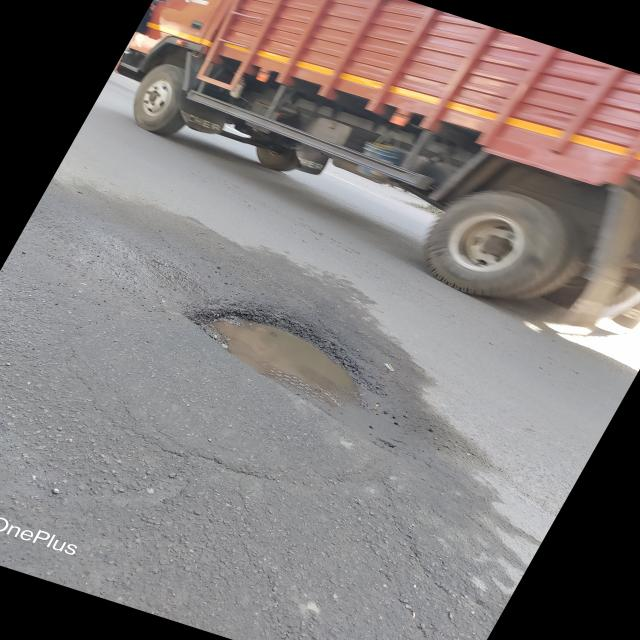Puddle pothole: (183, 301, 394, 411)
